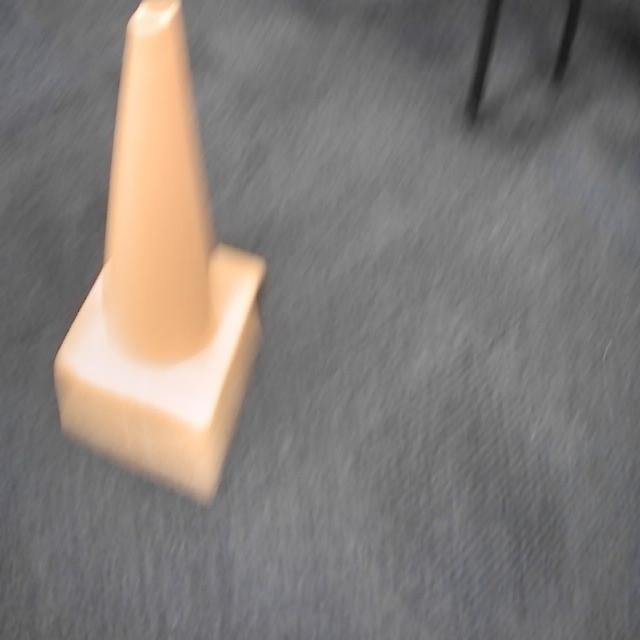cone: (51, 0, 271, 434)
